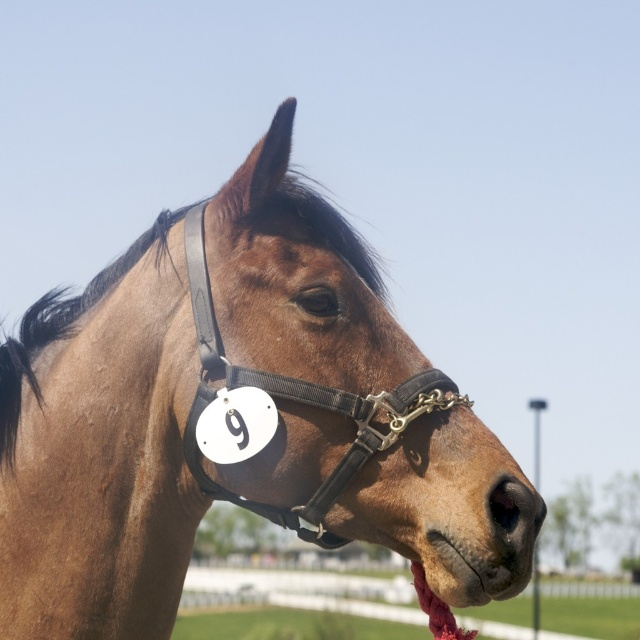Horse: (0, 92, 551, 640)
